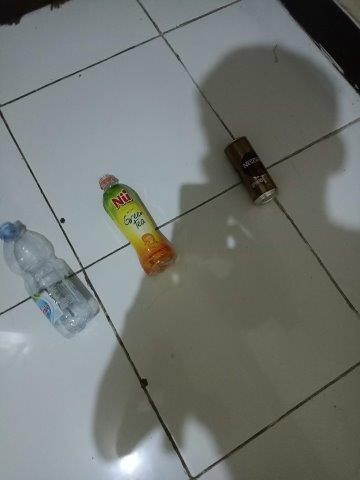botolplastik: (1, 221, 94, 338), (99, 174, 177, 276)
kaleng: (224, 136, 278, 206)
